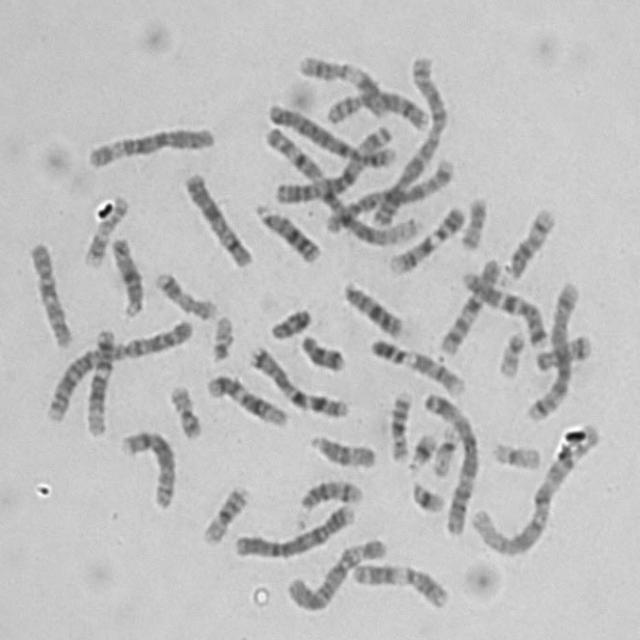A1: (258, 113, 425, 249), (465, 418, 602, 558)
A2: (37, 313, 196, 427), (365, 49, 447, 232)
A3: (268, 120, 395, 206), (418, 384, 482, 537)
B4: (262, 94, 398, 169), (228, 496, 357, 561)
B5: (318, 152, 456, 235), (521, 275, 582, 423)
C10: (433, 251, 506, 357), (20, 233, 74, 349)
C11: (292, 48, 391, 118), (345, 555, 453, 611)
C12: (200, 366, 290, 428), (78, 321, 118, 438)
C6: (280, 530, 389, 613), (80, 118, 216, 171)
C7: (244, 338, 352, 420), (456, 262, 551, 350)
C8: (114, 422, 178, 512), (320, 82, 432, 132)
C9: (364, 331, 467, 396), (383, 199, 467, 275)
D13: (248, 195, 322, 265), (336, 274, 406, 339)
D14: (499, 200, 558, 282), (293, 472, 365, 511)
D15: (105, 230, 146, 318), (303, 426, 378, 470)
E16: (196, 478, 252, 547), (382, 384, 415, 464)
E17: (78, 188, 130, 270), (148, 262, 218, 322)
E18: (528, 327, 594, 373), (294, 327, 347, 373)
F19: (426, 417, 464, 478), (485, 434, 544, 472)
F20: (163, 376, 204, 441), (454, 190, 490, 252)
G21: (405, 474, 448, 515), (404, 424, 439, 470)
G22: (490, 324, 528, 379), (204, 307, 236, 363)
X: (177, 164, 255, 270)
Y: (264, 300, 314, 340)
